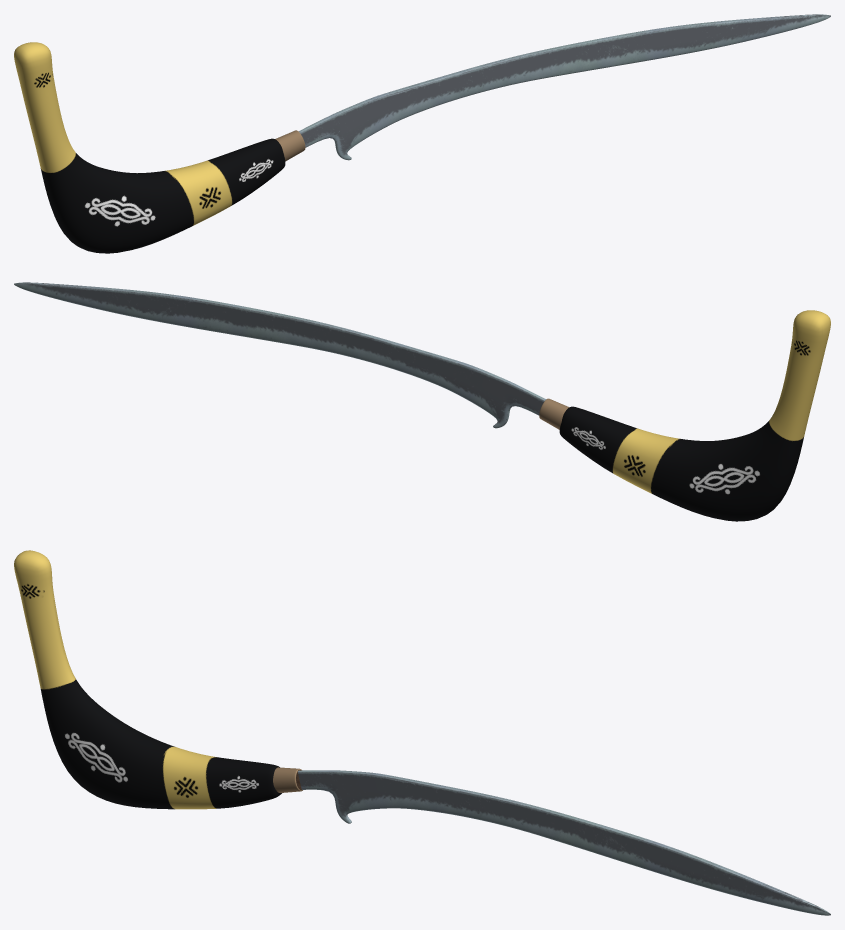
File: rencong.fbx
3 views of the same model, one above another, from view 1: azimuth 30°, elevation 25°; view 2: azimuth 150°, elevation 25°; view 3: azimuth 330°, elevation 25° (orthographic).
Visible parts, largest first — view 1: Plane; view 2: Plane; view 3: Plane.
Part boxes in pixels (x1=…): Plane: x1=14, y1=14, x2=830, y2=253; Plane: x1=14, y1=282, x2=830, y2=521; Plane: x1=14, y1=550, x2=830, y2=915.
Bounding box in the file's own units: 650 × 173 × 38.62.
Materials: 4 (4 with a texture image).
